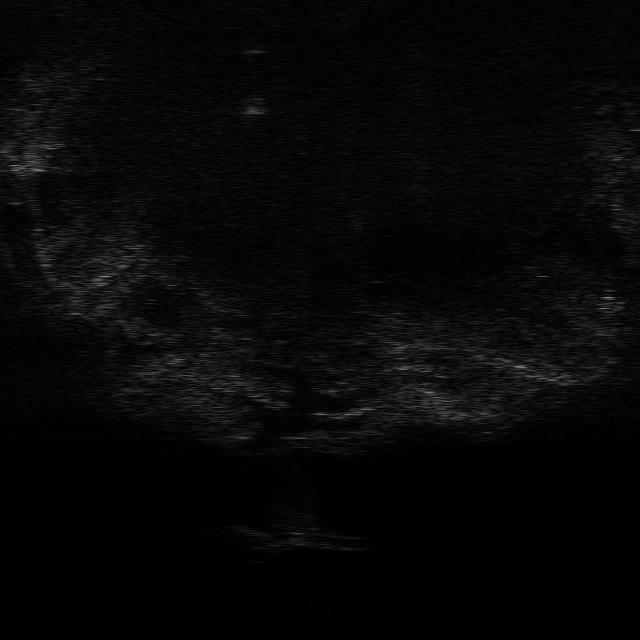plane: (230, 522, 362, 554)
